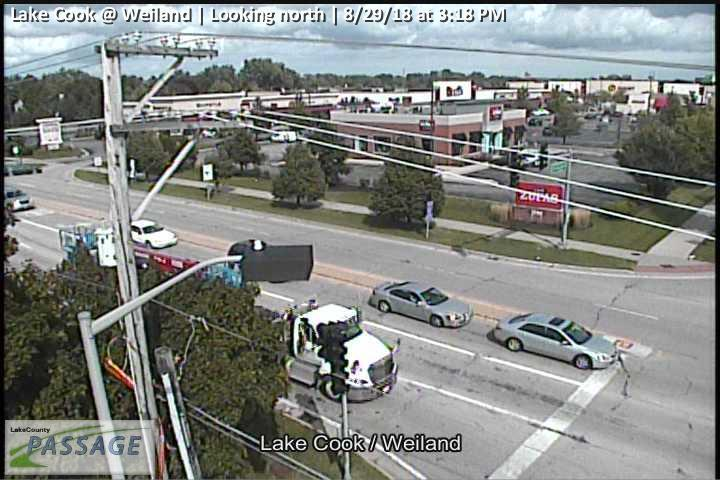SUV: (6, 187, 34, 213)
Sedan: (493, 311, 618, 370), (370, 282, 472, 328), (125, 219, 177, 250)
Truck: (59, 226, 400, 402)
